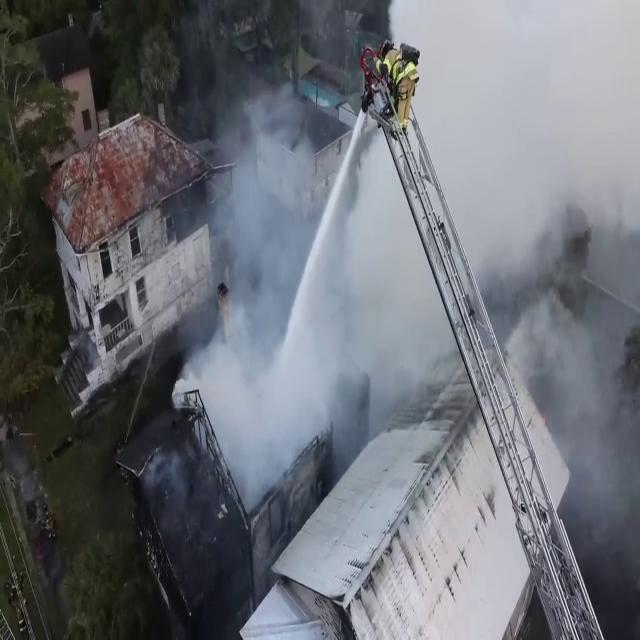Smoke: (192, 292, 340, 458)
